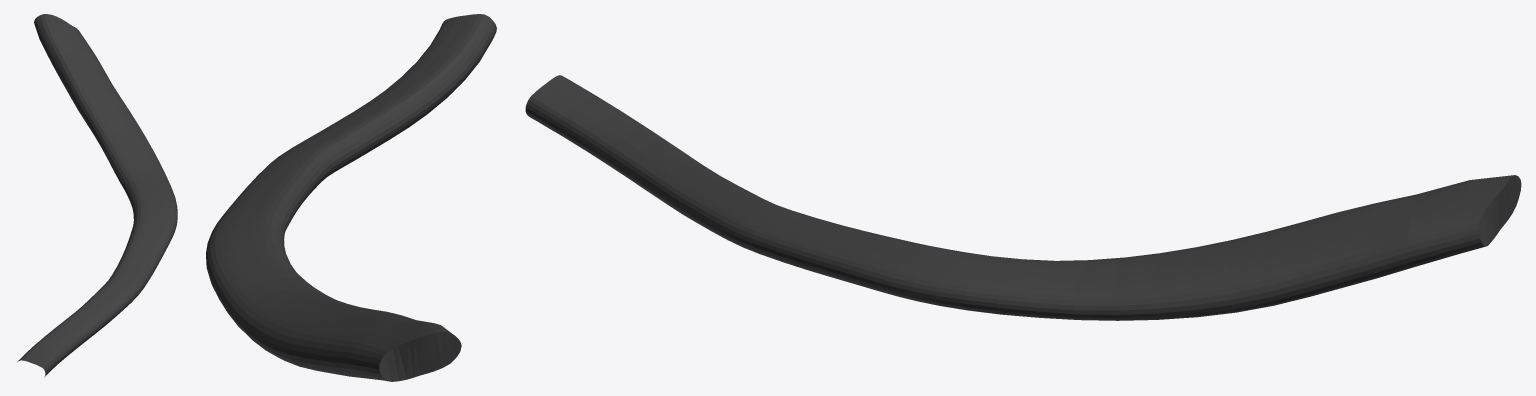
File: N_5_trigeminus_ophthalmic.glb
3 views of the same model, side by side, from view 1: azimuth 30°, elevation 25°; view 2: azimuth 210°, elevation 25°; view 3: azimuth 270°, elevation 25° (orthographic). The views are drawn at different scales.
Visible parts, largest first — view 1: N_5_trigeminus_ophthalmic; view 2: N_5_trigeminus_ophthalmic; view 3: N_5_trigeminus_ophthalmic.
Part boxes in pixels (box(x1,y1,x2,y2)): N_5_trigeminus_ophthalmic: box(17, 14, 177, 377); N_5_trigeminus_ophthalmic: box(206, 14, 496, 381); N_5_trigeminus_ophthalmic: box(525, 75, 1521, 320).
Bounding box in the file's own units: 0.00857 × 0.00276 × 0.0128.
Materials: 1 (1 with a texture image).
